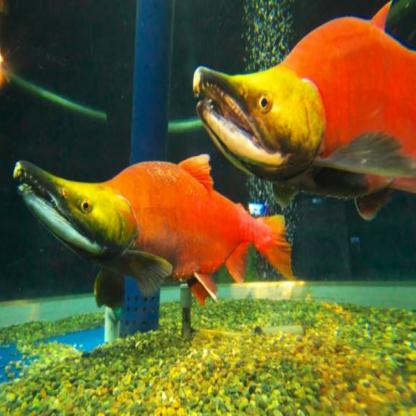sockeye: (16, 143, 286, 319), (198, 16, 407, 155)
